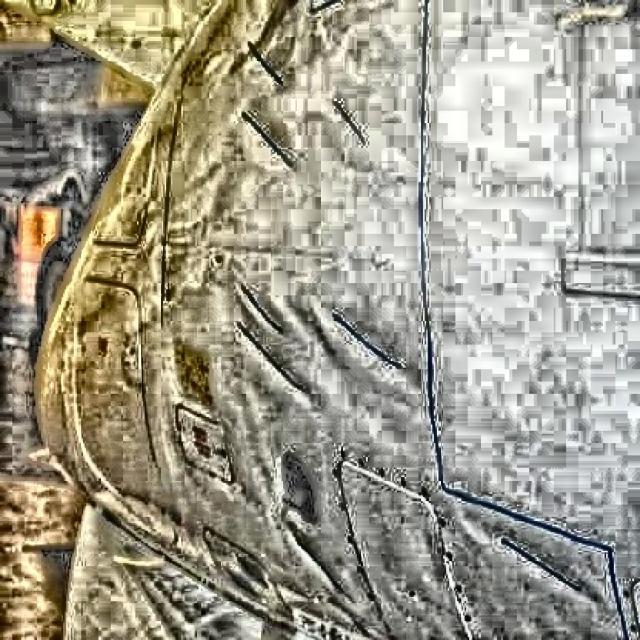dent: (461, 509, 603, 607), (237, 278, 323, 409), (284, 520, 358, 608), (246, 107, 295, 173)
